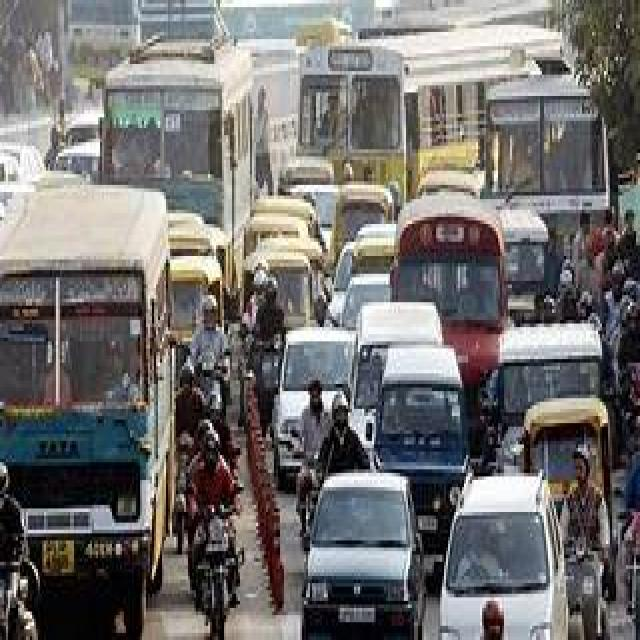Auto: (239, 198, 322, 328), (525, 398, 610, 500), (171, 211, 236, 343)
Bus: (0, 187, 174, 634), (301, 24, 561, 201), (103, 42, 255, 288), (484, 73, 610, 239), (618, 169, 640, 241)
Car: (272, 302, 566, 638), (274, 304, 510, 638)
